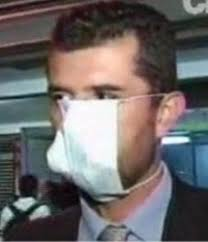mask_weared_incorrect: (42, 71, 172, 186)
